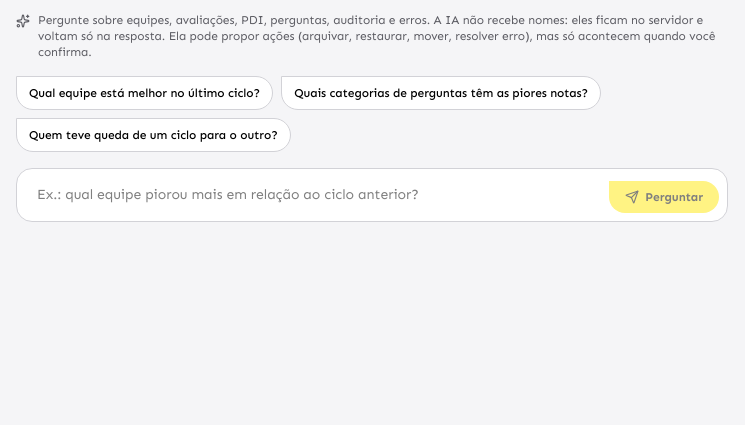
AssistantView › mostra a ação proposta e só executa depois do clique em Confirmar
In the text box named "Pergunte sobre os dados": (313, 195) x1=25 y1=177 x2=601 y2=213, type "Arquive a Ana"
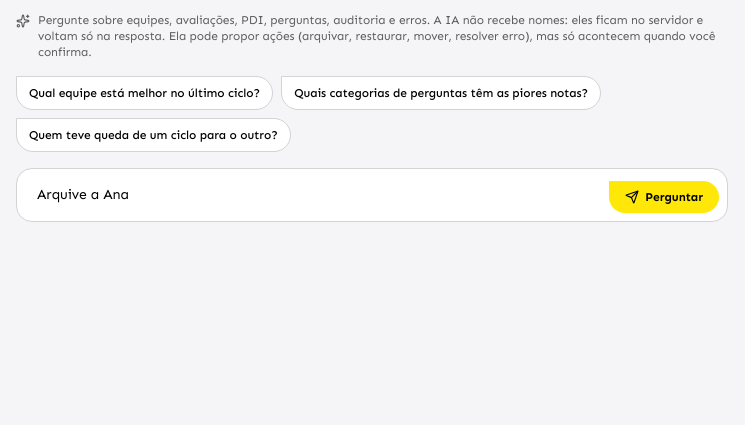
Click the button "Perguntar": (664, 197) x1=609 y1=181 x2=719 y2=213
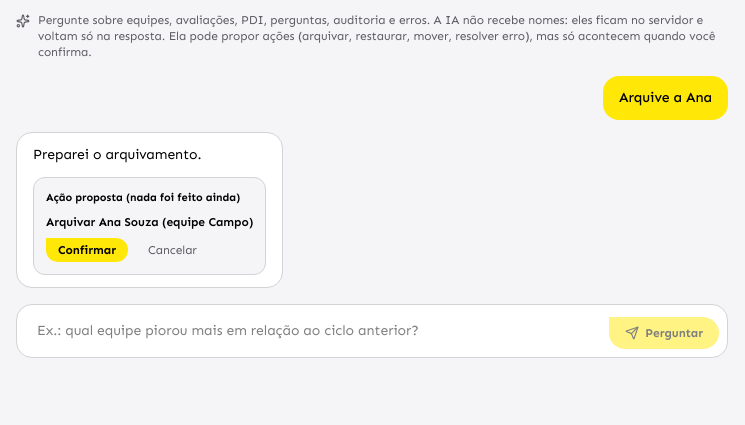
Expected: the text "Arquivar Ana Souza (equipe Campo)" is shown, x1=46 y1=214 x2=253 y2=230
Click the button "Confirmar": (87, 250) x1=46 y1=238 x2=128 y2=262
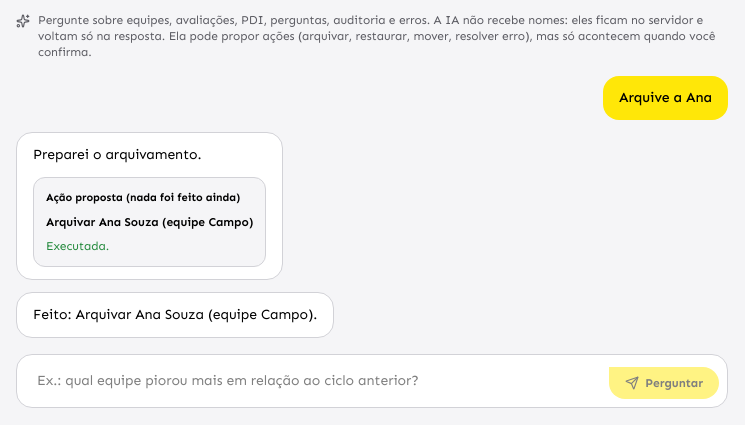
Expected: the text "Feito: Arquivar Ana Souza (equipe Campo)." is shown, x1=16 y1=292 x2=334 y2=338
Expected: the text "Executada." is shown, x1=46 y1=239 x2=109 y2=253
Expected: the button "Confirmar" is gone
